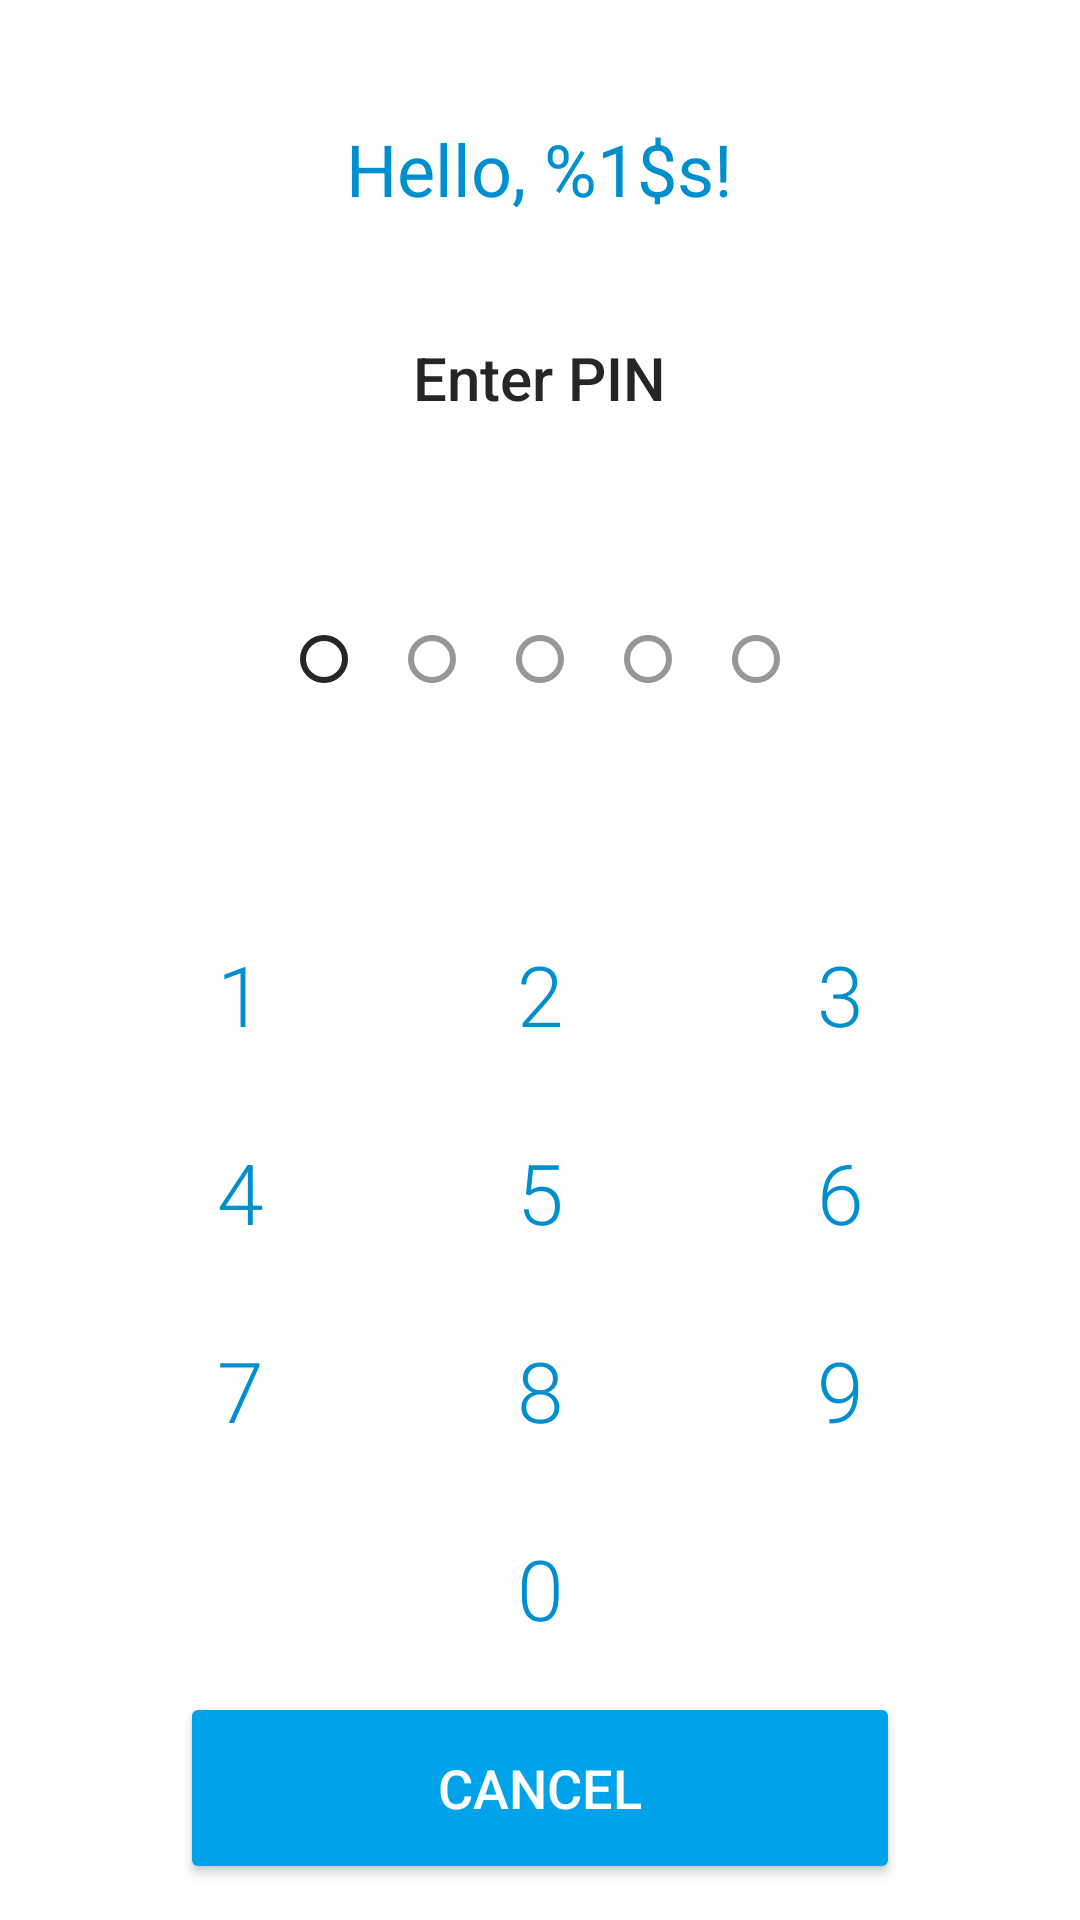

Icon bounding boxes for this 1080*1920 phone screenshot, format [left=x1, top=y1, right=x2, bottom=y2]:
circle: [left=300, top=635, right=348, bottom=683]
circle empty: [left=408, top=635, right=456, bottom=683], [left=516, top=635, right=564, bottom=683], [left=624, top=635, right=672, bottom=683], [left=732, top=635, right=780, bottom=683]
